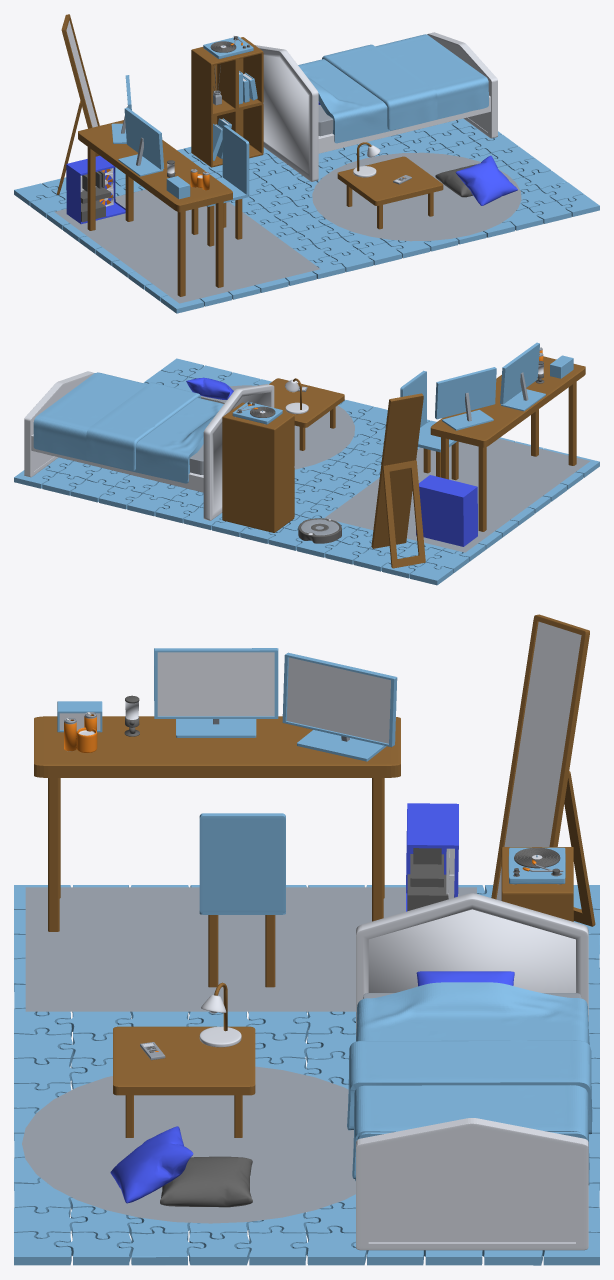
The model's file is room.glb.
3 views of the same model, one above another, from view 1: azimuth 30°, elevation 25°; view 2: azimuth 150°, elevation 25°; view 3: azimuth 270°, elevation 25° (orthographic). The views are drawn at different scales.
Parts seen in each view (by area): view 1: pazzle, carpet2, carpet1, bed, bedOn, shelf, desk2, bedOff, desk, chiar, pc, monitor1 (+7 smaller); view 2: pazzle, carpet2, shelf, bedOn, mirror, bedOff, bed, desk2, pc, monitor2, carpet1, desk (+7 smaller); view 3: pazzle, bed, carpet2, carpet1, bedOn, desk2, mirror, bedOff, chiar, monitor1, desk, monitor2 (+7 smaller).
Boxes of the visible parts, box(x1,y1,x2,y2) form: pazzle: box(14, 118, 599, 313); carpet2: box(54, 189, 320, 303); carpet1: box(312, 152, 521, 241); bed: box(255, 32, 497, 181); bedOn: box(322, 34, 487, 131); shelf: box(191, 37, 263, 167); desk2: box(78, 120, 232, 296); bedOff: box(298, 34, 488, 143); desk: box(337, 156, 443, 229); chiar: box(191, 125, 249, 246); pc: box(66, 155, 125, 224); monitor1: box(118, 107, 164, 176); pazzle: box(14, 358, 599, 585); carpet2: box(324, 438, 589, 552); shelf: box(222, 402, 294, 532); bedOn: box(37, 372, 200, 470); mirror: box(371, 393, 425, 568); bedOff: box(33, 373, 223, 483); bed: box(24, 371, 274, 520); desk2: box(430, 356, 585, 531); pc: box(416, 475, 477, 546); monitor2: box(435, 367, 496, 430); carpet1: box(201, 385, 354, 469); desk: box(269, 378, 344, 450); pazzle: box(14, 885, 599, 1265); bed: box(356, 893, 588, 1250); carpet2: box(25, 887, 476, 1011); carpet1: box(22, 1066, 355, 1223); bedOn: box(347, 1039, 592, 1178); desk2: box(34, 716, 400, 931); mirror: box(491, 614, 595, 926); bedOff: box(355, 982, 589, 1184); chiar: box(199, 813, 285, 987); monitor1: box(154, 648, 278, 737); desk: box(113, 1026, 255, 1137); monitor2: box(282, 652, 397, 761).
Bounding box in the file's own units: 4.5 × 1.74 × 3.
